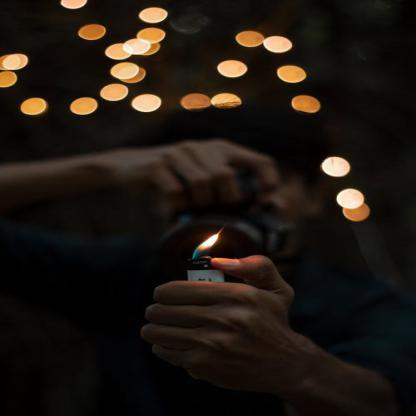Fire: (178, 225, 228, 263)
